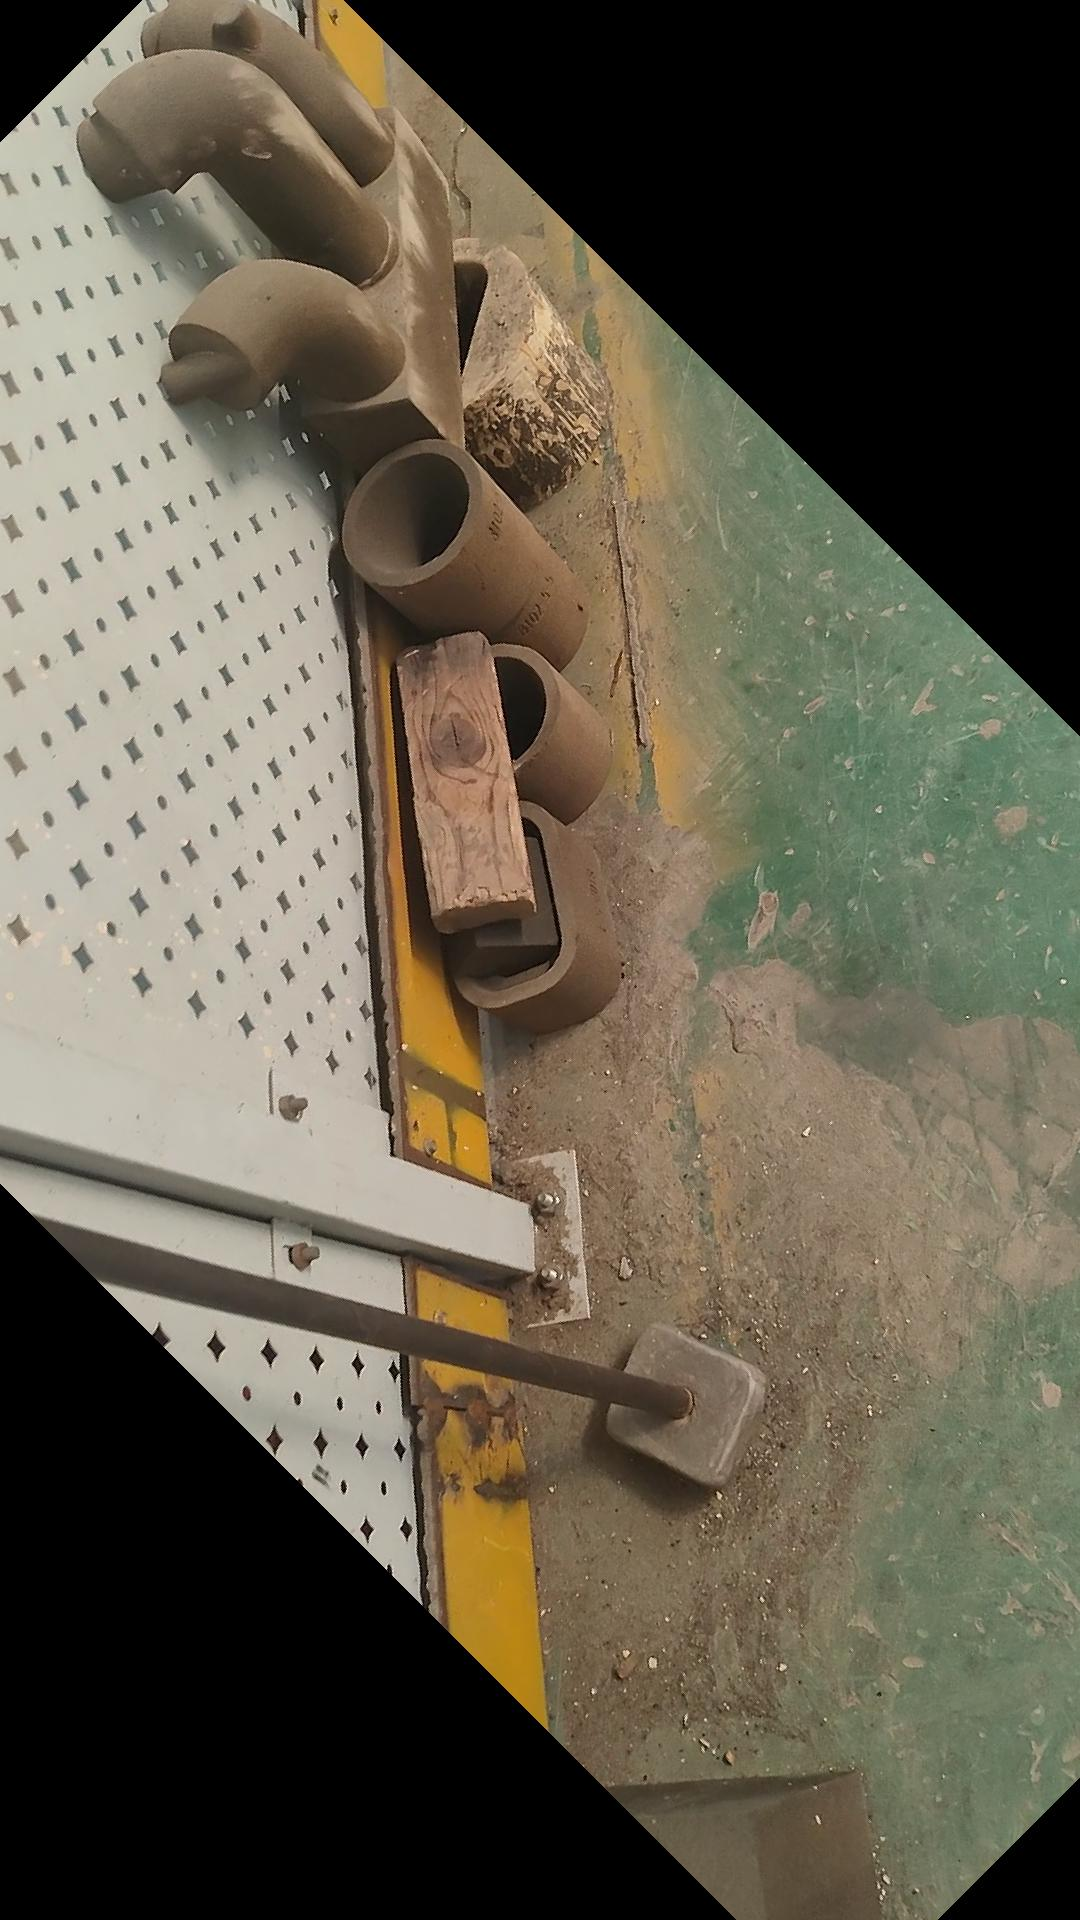pouring hole: (353, 454, 468, 571), (425, 657, 547, 762)
